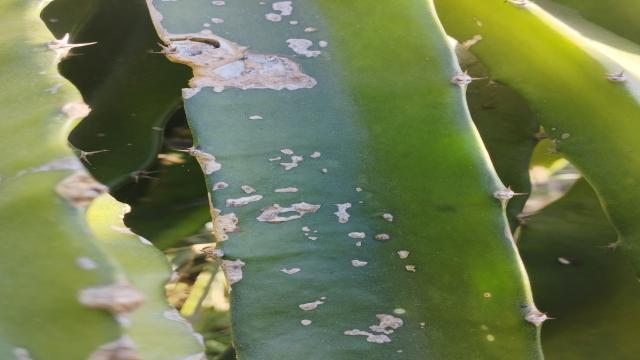stemcanker: (202, 94, 428, 345)
